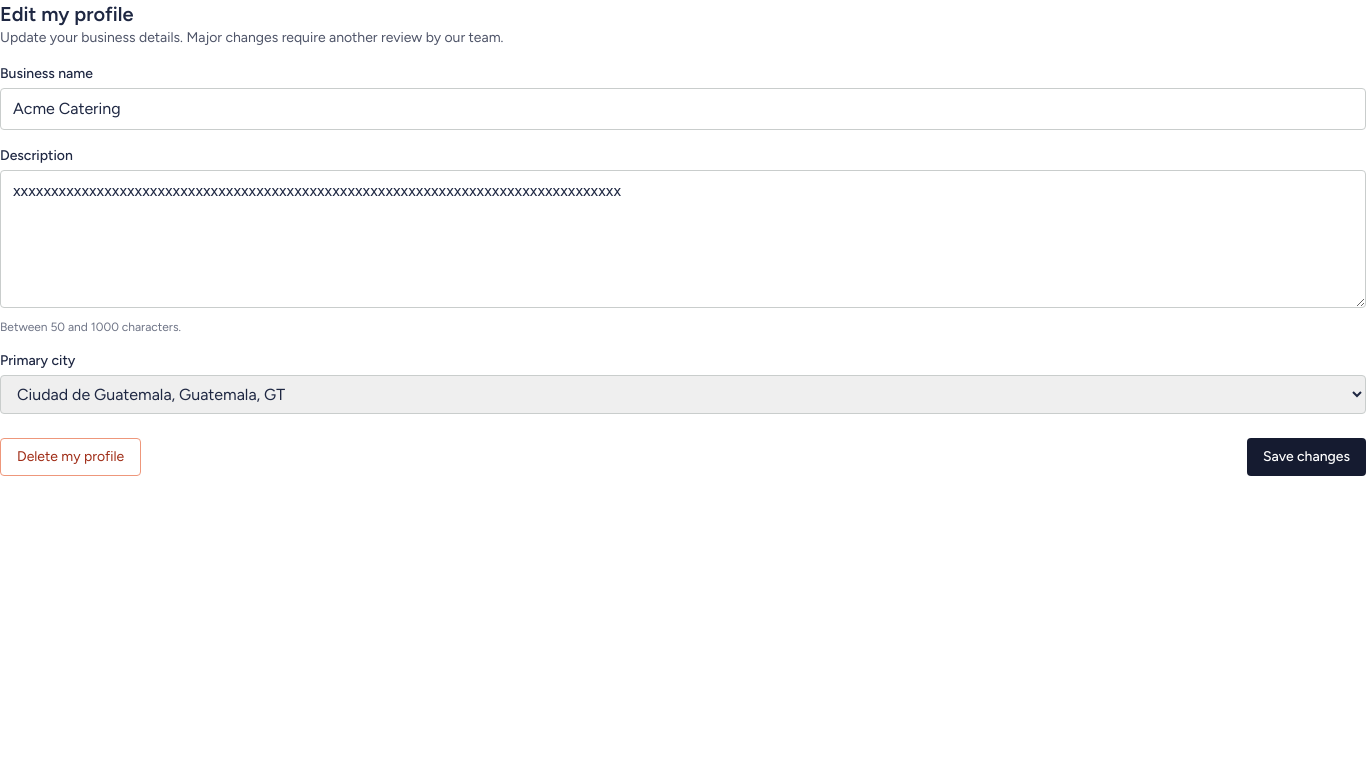
Test: US-041 flujo del editor › abre y cierra el DeleteProfileDialog
Click the button "Delete my profile". click: x=71, y=457
box: [0, 438, 141, 476]
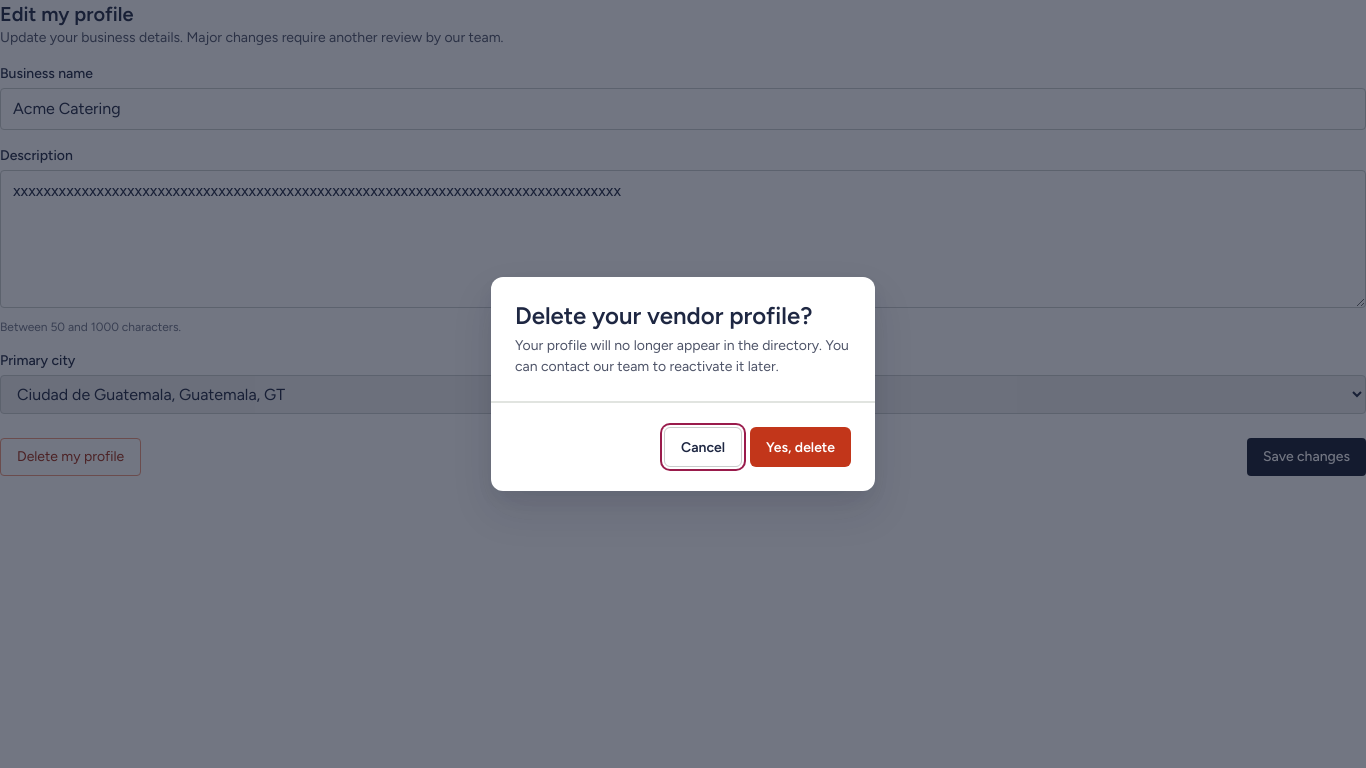
Click the button "Cancel". click: x=703, y=447
box: [664, 427, 742, 467]
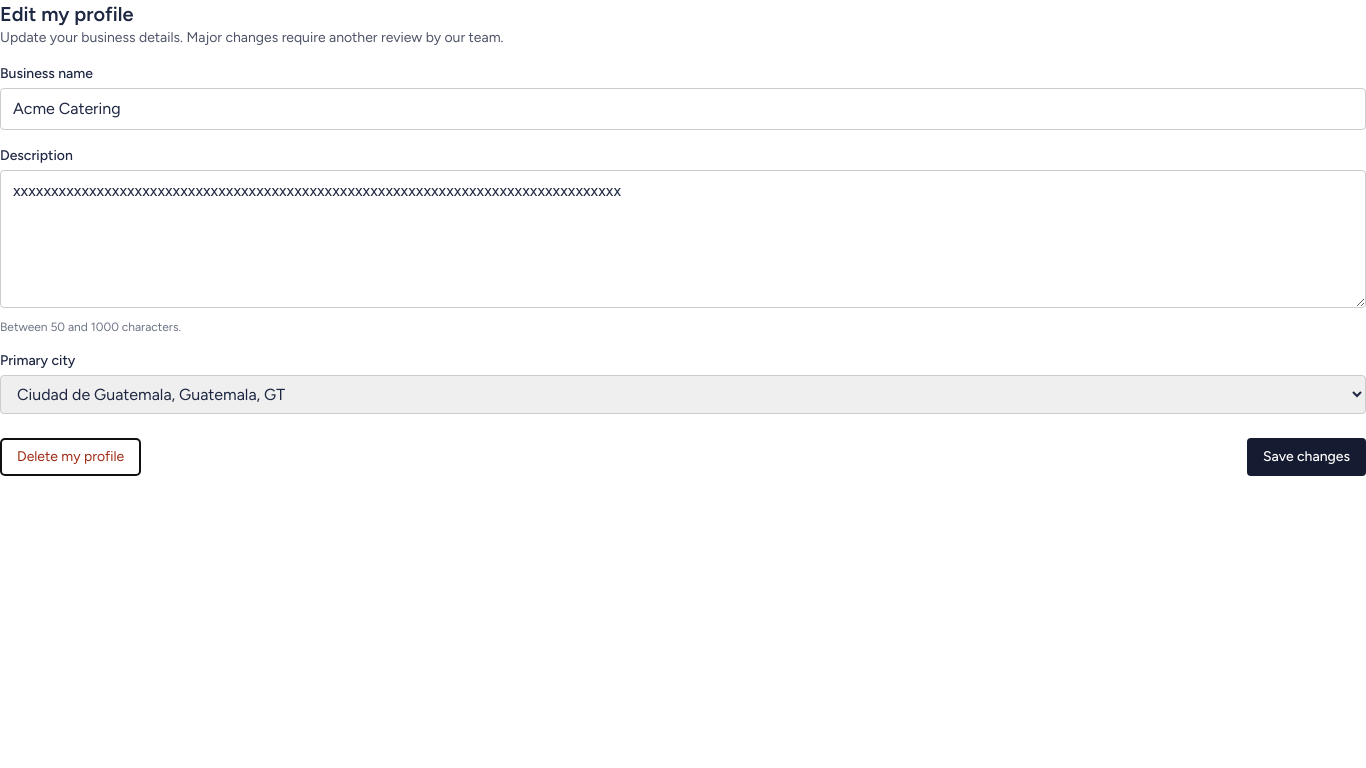
Check: the heading "Delete your vendor profile" is gone
